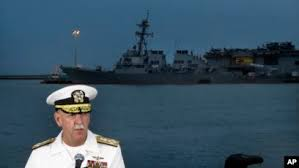tau_muctieu: (64, 25, 243, 83)
